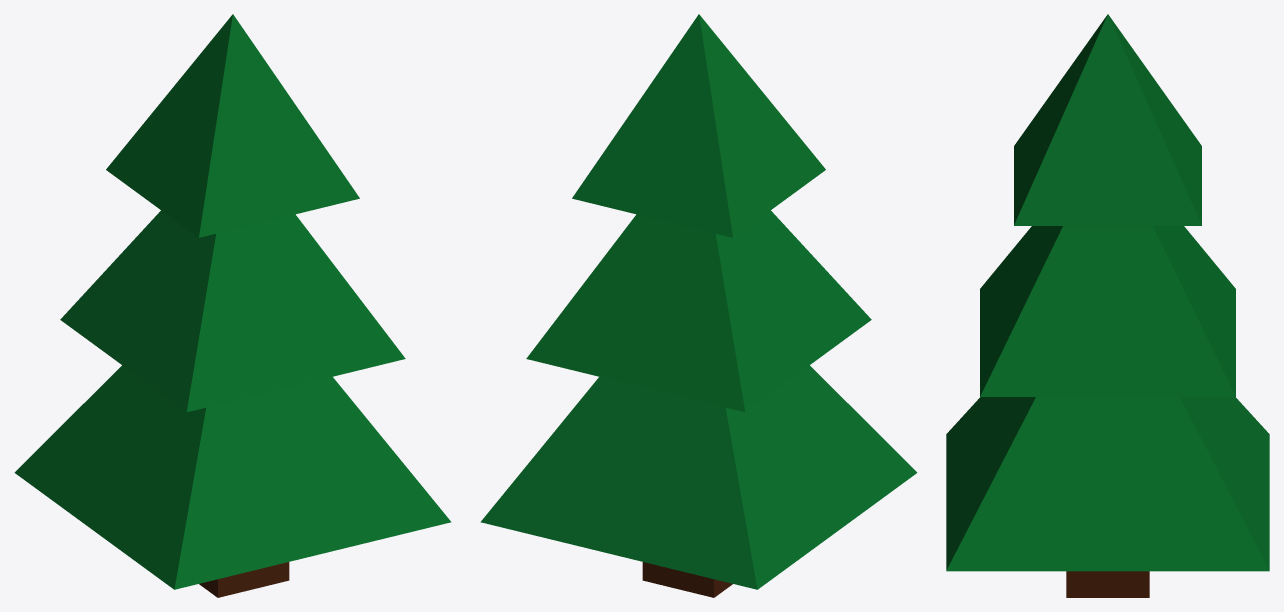
Rendered from Tree_02.fbx.
The picture shows the model from 3 angles, left to right: view 1: azimuth 30°, elevation 25°; view 2: azimuth 150°, elevation 25°; view 3: azimuth 270°, elevation 25°; orthographic projection.
Parts seen in each view (by area): view 1: Cube; view 2: Cube; view 3: Cube.
Part boxes in pixels (bbox=[...]): Cube: bbox=[14, 14, 451, 597]; Cube: bbox=[480, 14, 917, 597]; Cube: bbox=[946, 14, 1269, 597].
Bounding box in the file's own units: 775 × 1495 × 775.
